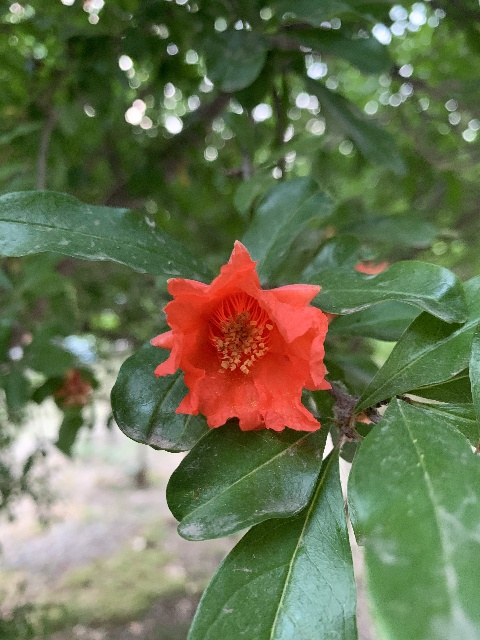flower: (149, 239, 332, 433)
